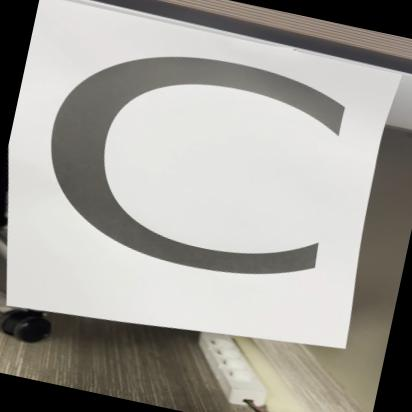seat: (0, 0, 403, 370)
